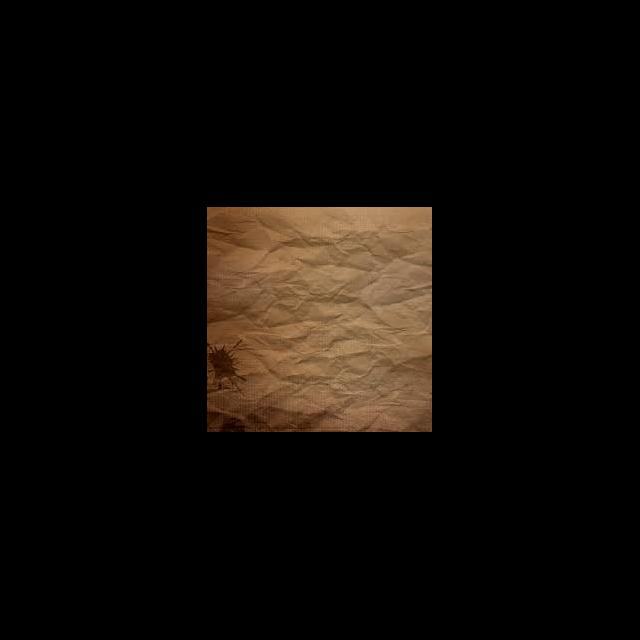paper: (208, 208, 432, 432)
